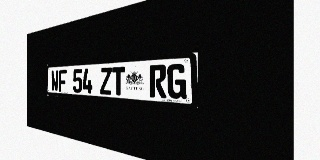4: (82, 68, 92, 94)
5: (73, 69, 82, 93)
F: (59, 70, 66, 92)
G: (167, 63, 186, 99)
R: (149, 64, 166, 98)
T: (112, 67, 125, 96)
W: (51, 70, 58, 92)
Z: (100, 67, 112, 95)
